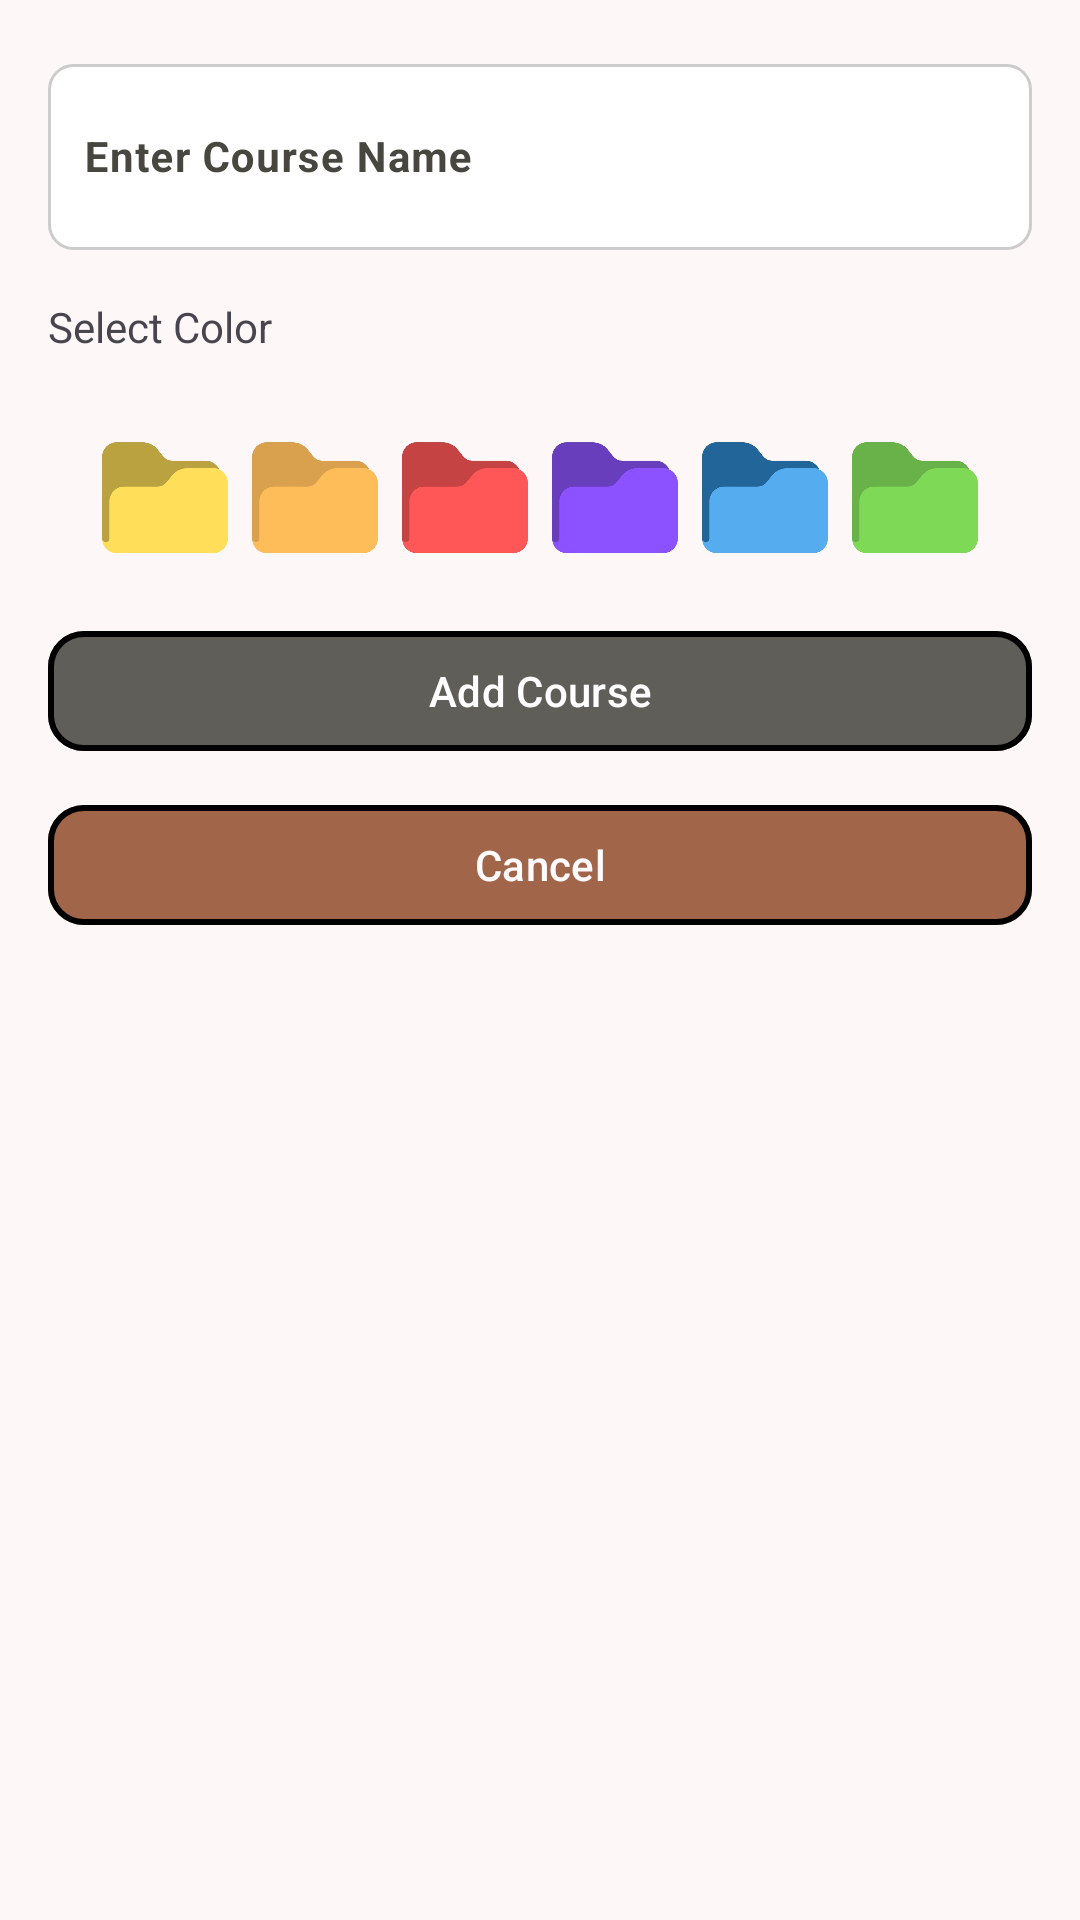

Icons on this 1080px×1920px Android screen, each with the point to tap as (x,y):
folder: (165,497), (315,497), (465,497), (765,497), (915,497)
folder violet: (615,497)
